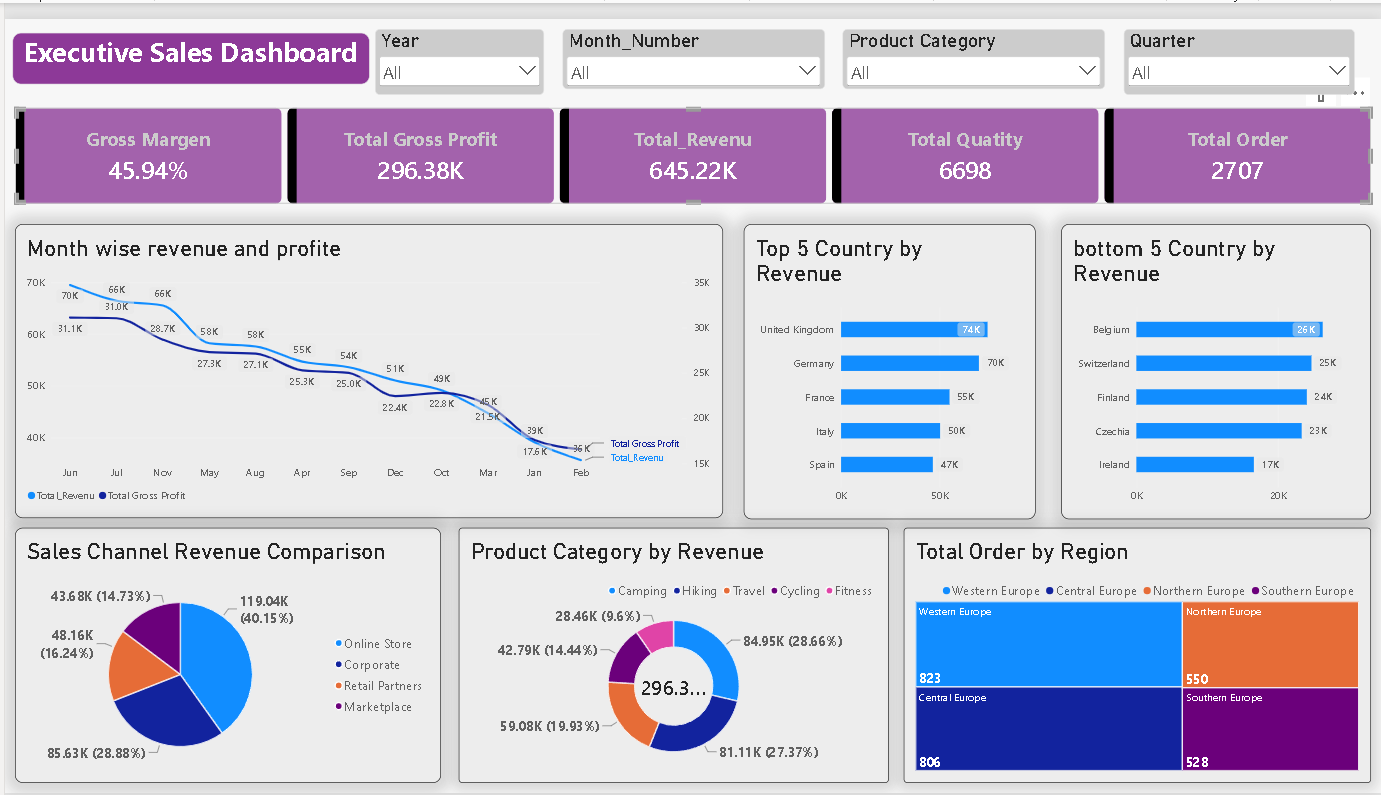

Layout of this report page (visuals, bound fields, positions):
{"tool":"powerbi","page":{"name":"Page 1","canvas":[1920,1080],"ordinal":0},"visuals":[{"type":"cardVisual","fields":{"Data":["All_measurs.Gross Margen","All_measurs.Total Gross Profit","All_measurs.Total_Revenu","All_measurs.Total Quatity","All_measurs.Total Order"]},"box":[14,124,1892,134],"z":0},{"type":"textbox","box":[10,20,498,72],"z":1000},{"type":"group","id":"g1","title":"Group 1","box":[516,14,1366,92],"z":2000},{"type":"slicer","fields":{"Values":["Date_table.Year"]},"box":[516,14,236,92],"z":2000,"group":"g2"},{"type":"slicer","fields":{"Values":["Date_table.Quarter"]},"box":[1560,14,322,92],"z":3000,"group":"g2"},{"type":"lineChart","title":"Month wise revenue and profite","fields":{"Category":["Date_table.Month_Name"],"Y":["All_measurs.Total_Revenu"],"Y2":["All_measurs.Total Gross Profit"]},"box":[14,286,988,410],"z":3000},{"type":"slicer","fields":{"Values":["Date_table.Month_Number"]},"box":[777.3,14,366,84],"z":4000,"group":"g2"},{"type":"clusteredBarChart","title":"Top 5 Country by Revenue ","fields":{"Category":["SalesData.Country"],"Y":["All_measurs.Total_Revenu"]},"box":[1030,286,407.3,412],"z":4000},{"type":"slicer","fields":{"Values":["SalesData.Product Category"]},"box":[1168.7,14,366,84],"z":5000,"group":"g2"},{"type":"clusteredBarChart","title":"bottom 5 Country by Revenue","fields":{"Category":["SalesData.Country"],"Y":["All_measurs.Total_Revenu"]},"box":[1474,286,432,412],"z":5000},{"type":"group","id":"g2","title":"Group 2","box":[516,14,1366,92],"z":5002,"group":"g1"},{"type":"pieChart","title":"Sales Channel Revenue Comparison","fields":{"Category":["SalesData.Sales Channel"],"Y":["All_measurs.Total_Revenu"]},"box":[14,710,594,356],"z":6000},{"type":"donutChart","title":"Product Category by Revenue","fields":{"Category":["SalesData.Product Category"],"Y":["All_measurs.Total Gross Profit"]},"box":[634,710,600,356],"z":7000},{"type":"treemap","fields":{"Group":["SalesData.Region"],"Values":["All_measurs.Total Order"]},"box":[1254,710,652,356],"z":8000}]}

Visuals, with their boxes in screenshot pixels (x1, y1, x2, y2), scaled from the page's 1920x1080 canvas onto the 1381x795 screenshot:
cardVisual - All_measurs.Gross Margen x All_measurs.Total Gross Profit: 10/91/1371/190
textbox: 7/15/365/68
"Group 1" group: 371/10/1354/78
slicer - Date_table.Year: 371/10/541/78
slicer - Date_table.Quarter: 1122/10/1354/78
"Month wise revenue and profite" lineChart: 10/211/721/512
slicer - Date_table.Month_Number: 559/10/822/72
"Top 5 Country by Revenue " clusteredBarChart: 741/211/1034/514
slicer - SalesData.Product Category: 841/10/1104/72
"bottom 5 Country by Revenue" clusteredBarChart: 1060/211/1371/514
"Group 2" group: 371/10/1354/78
"Sales Channel Revenue Comparison" pieChart: 10/523/437/785
"Product Category by Revenue" donutChart: 456/523/888/785
treemap - SalesData.Region x All_measurs.Total Order: 902/523/1371/785
